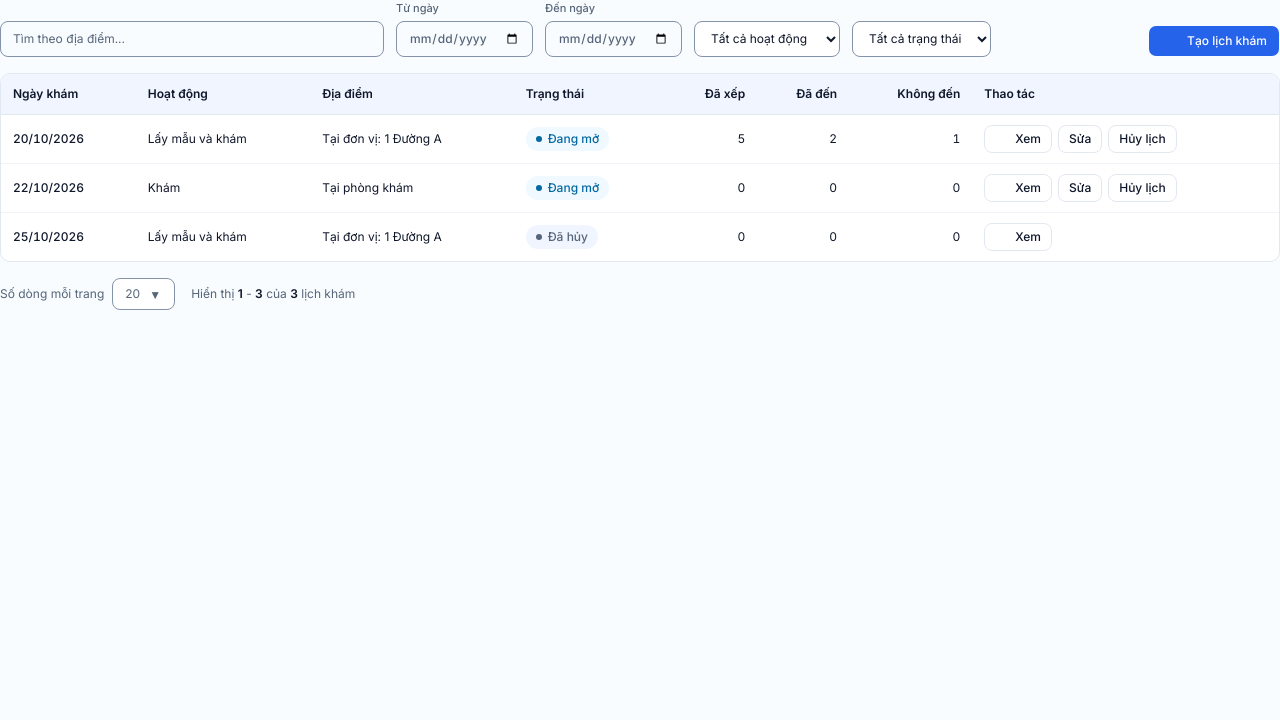
Scenario: creating a session › posts a session reserved to the agreement when asked, and tells the user
Click the button "Tạo lịch khám". click: (1214, 40)
box: [1148,24,1279,56]
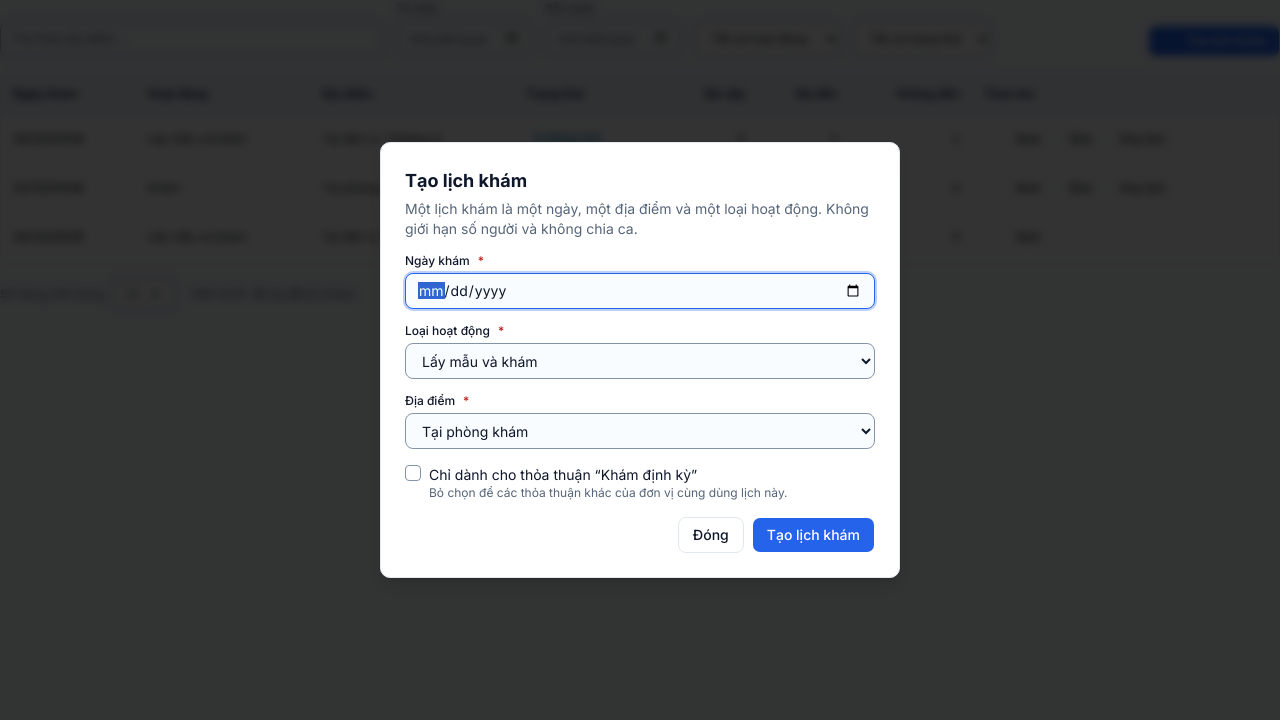
Type "2026-10-23" into the date field labelled "Ngày khám *". click: (640, 291)
box: [405,273,875,309]
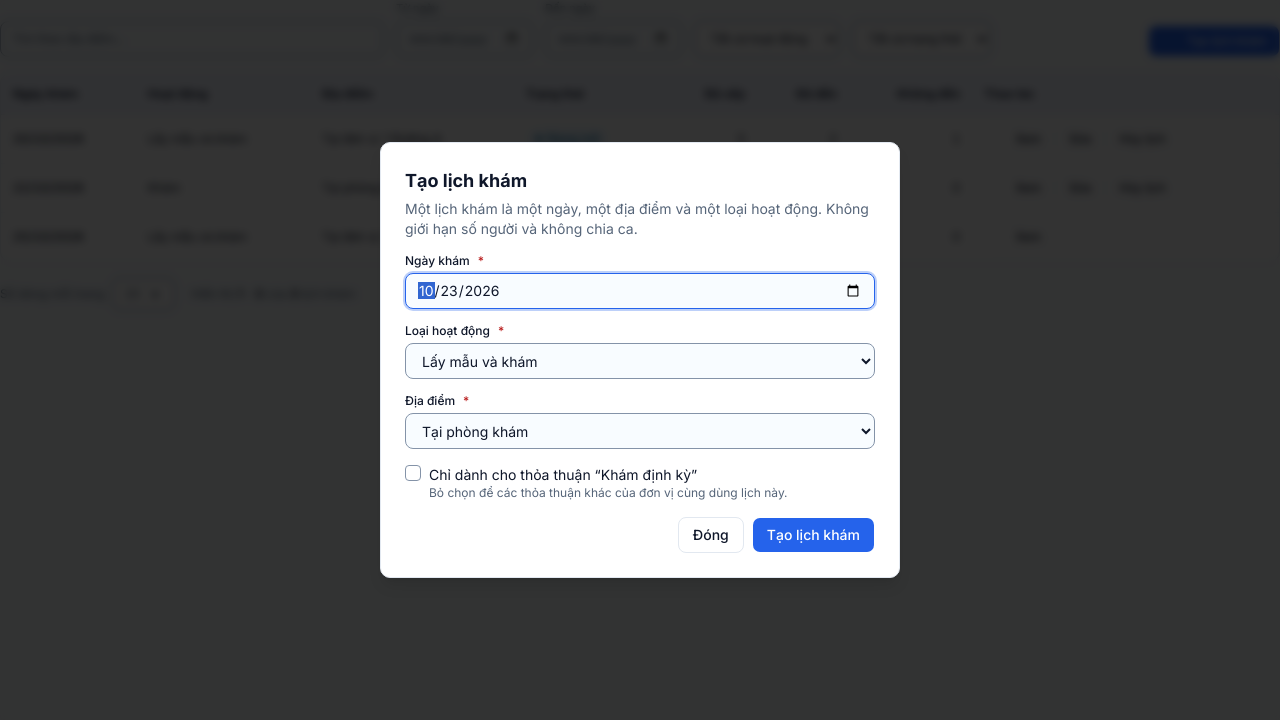
Select "Lấy mẫu" in the dropdown labelled "Loại hoạt động *". click: (640, 361)
box: [405,343,875,379]
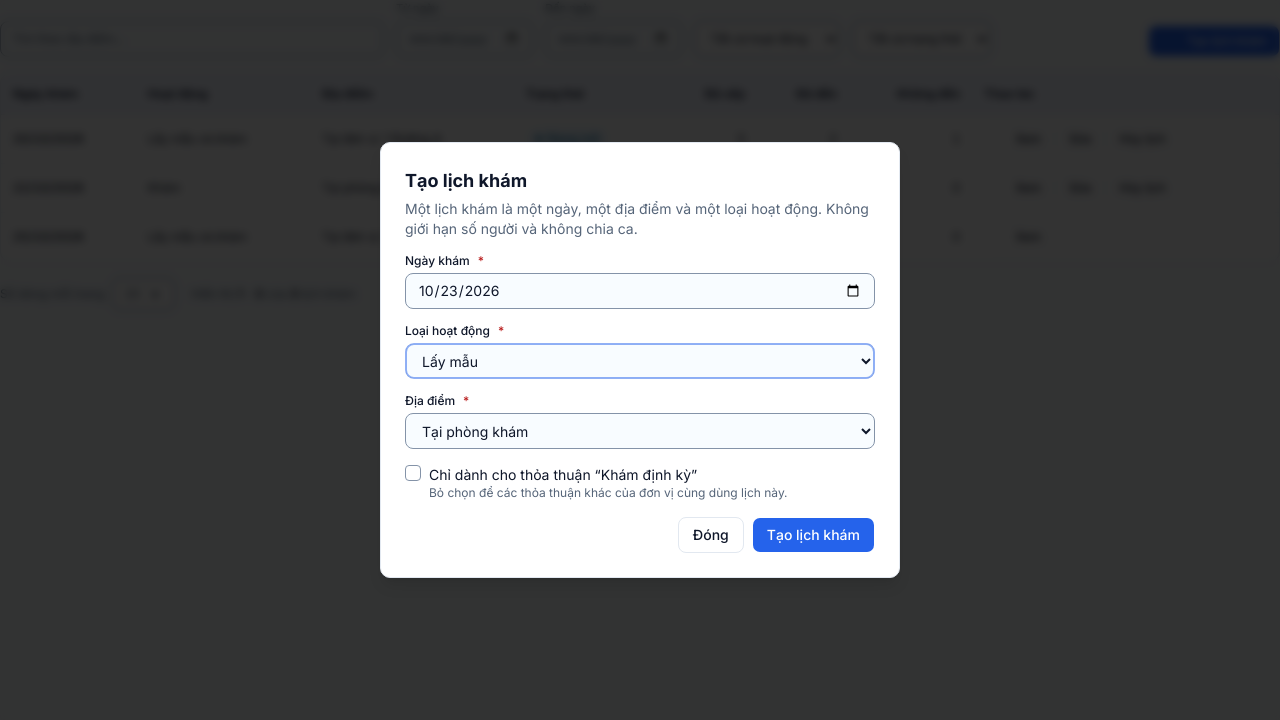
Click the checkbox named "Chỉ dành cho thỏa thuận này". click: (413, 473)
box: [405,465,421,481]
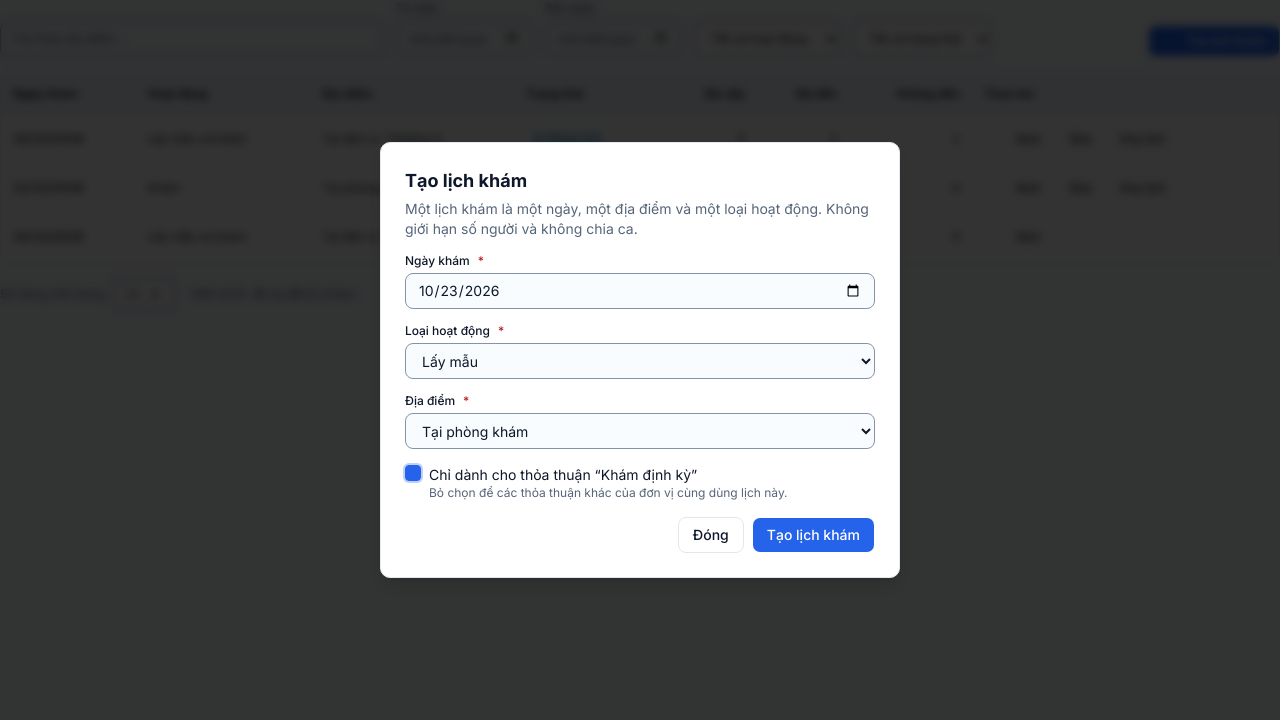
Click the button "Tạo lịch khám". click: (813, 535)
box: [752,517,875,553]
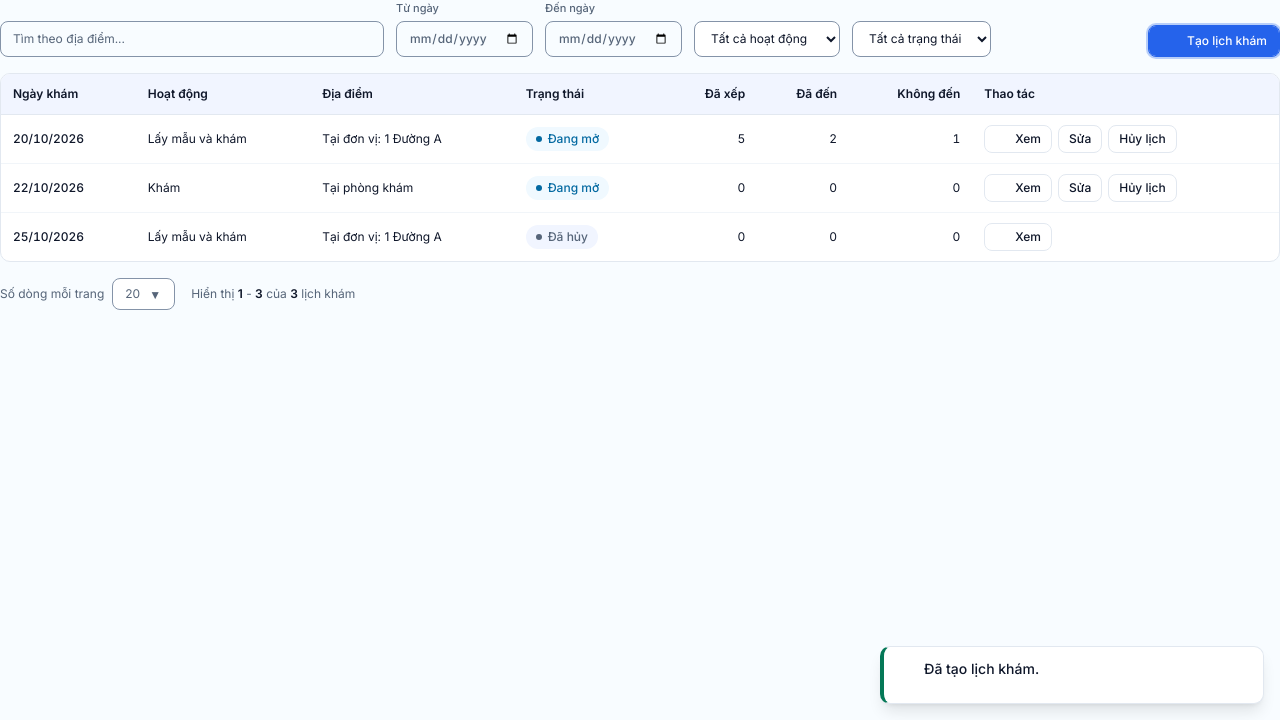
Result: the heading "Đã tạo lịch khám." is shown at [924,660,1039,677]
